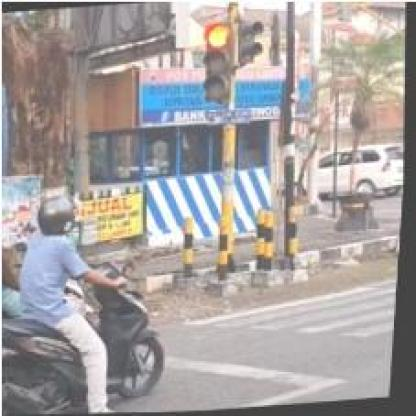red: (197, 21, 235, 104)
